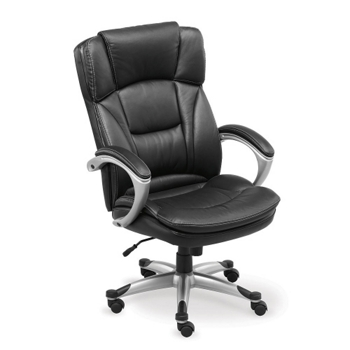chairs: (72, 19, 281, 341)
